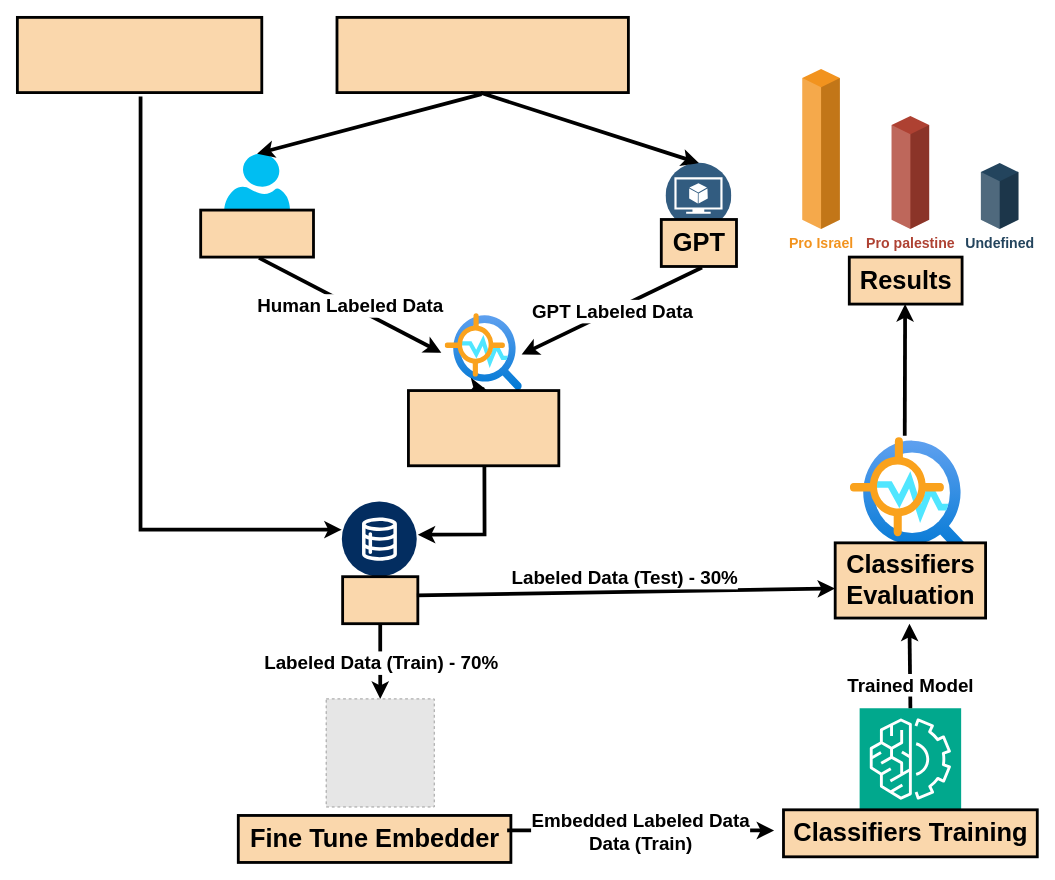
The diagram is 1055 pixels wide and 880 high, and some of its shapes have lost their labels. Grey dashed boxes stand in for pictures. The centre of each missing label's shape, as x and y in pixels:
"AI Tagger Evaluation" belongs at point 483,428.
"Data" belongs at point 380,600.
"Human" belongs at point 256,233.
"Reddit Israel-Palestine Conflict Comments" belongs at point 482,55.
"Undefined Conflict Comments" belongs at point 139,55.
